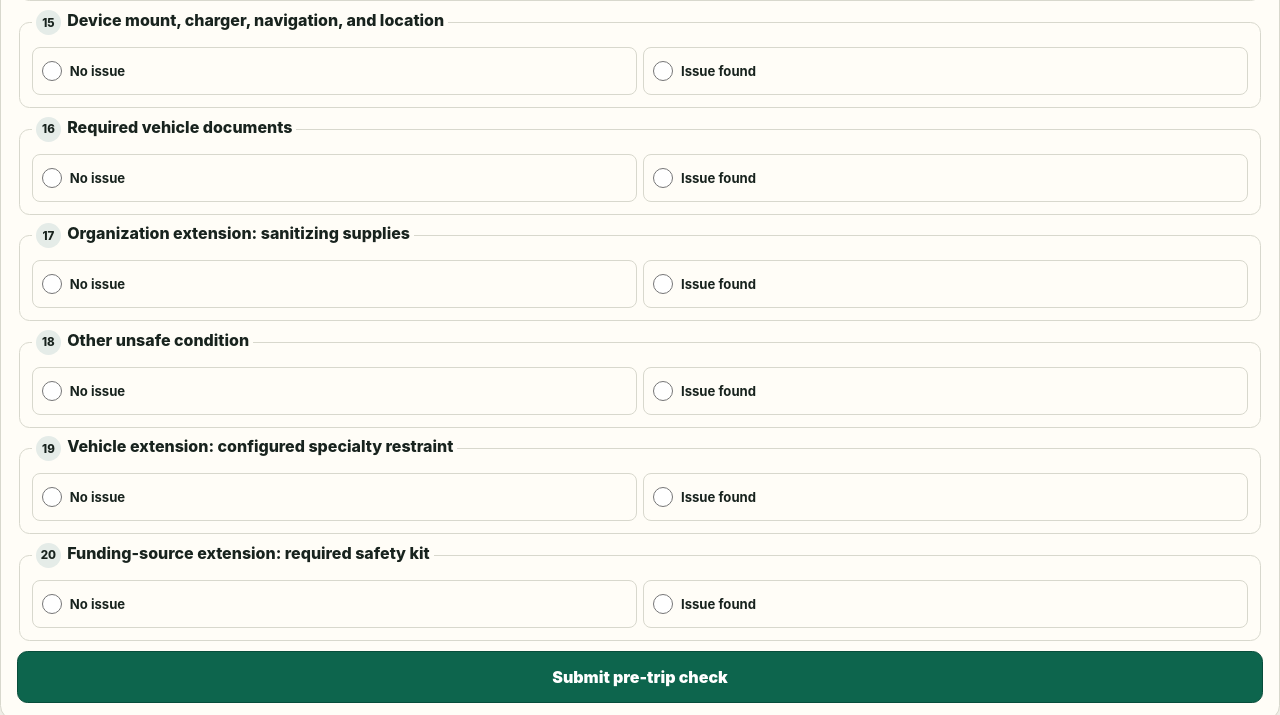
Test case: requires manual answers when Command control leaves the precheck empty
The image size is (1280, 715).
(page scrolled)
Click the button "Submit pre-trip check": (640, 677) [17,651,1263,703]
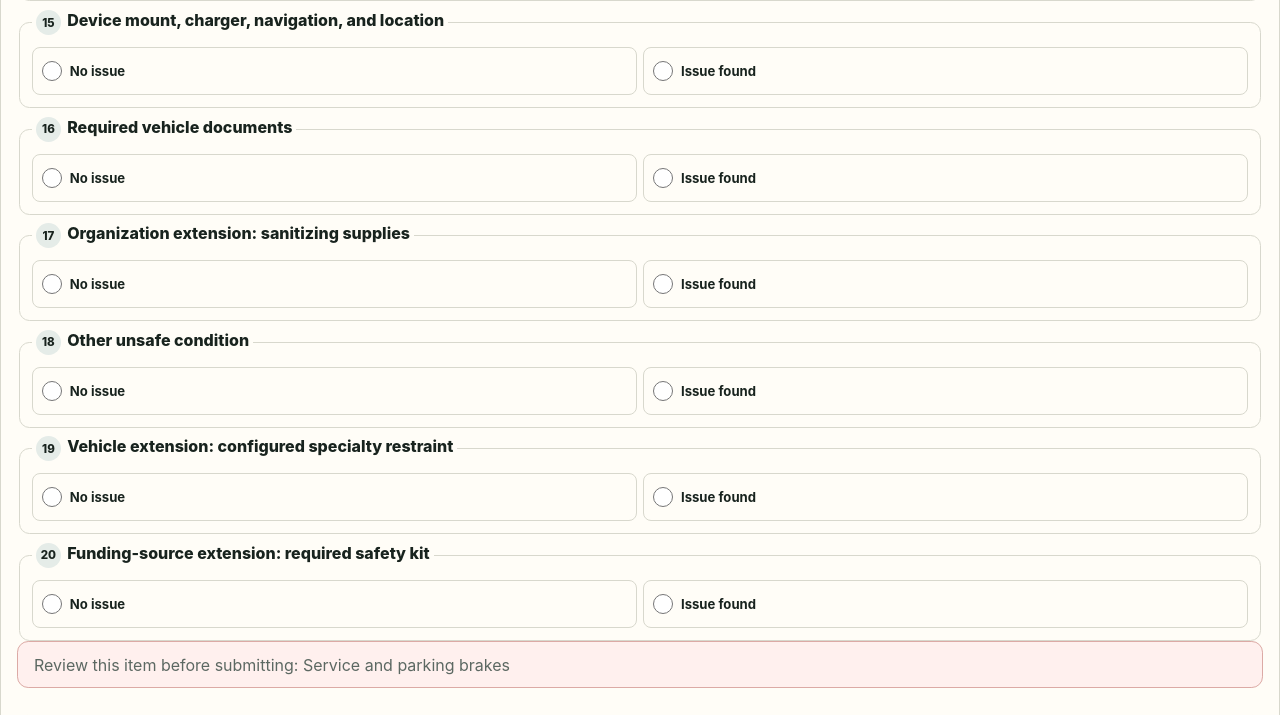
Expected: the text "Review this item before submitting: Service and parking brakes" is shown, [17,641,1263,688]
